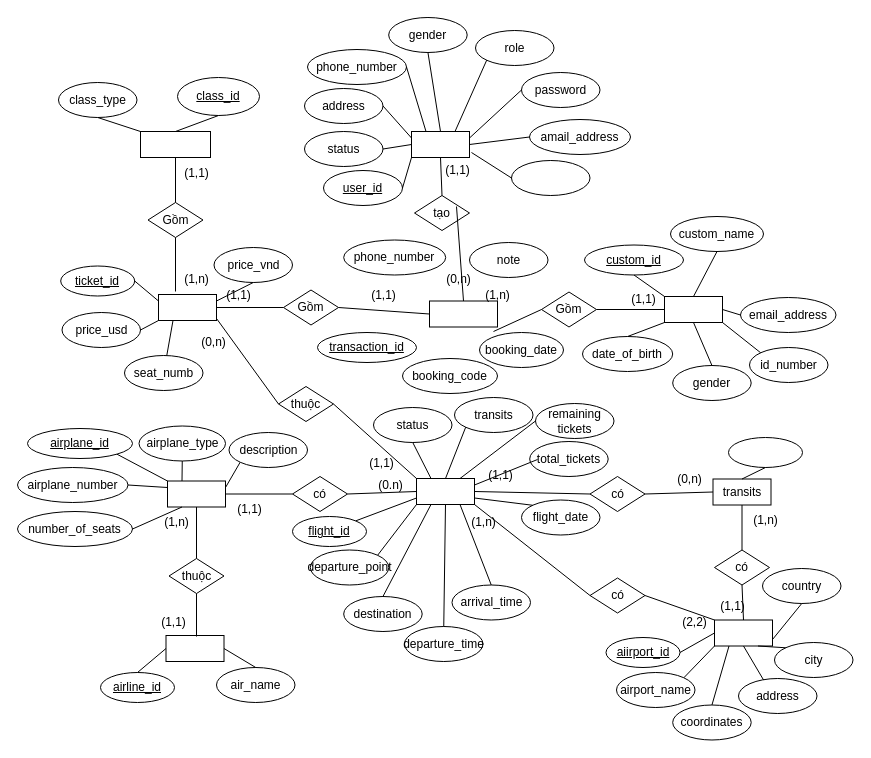
Image size: 871x758. Some labels were removed from this diagram. Here are the shapes that lost their labels. From the top down, the centre of each, then its label:
[175,144]: ticket_class
[440,144]: User
[550,178]: user_name
[187,307]: tickets
[463,313]: transaction
[693,309]: customer
[765,452]: transit_id
[196,493]: airplanes
[445,491]: flights
[194,648]: airlines
[743,632]: airport
